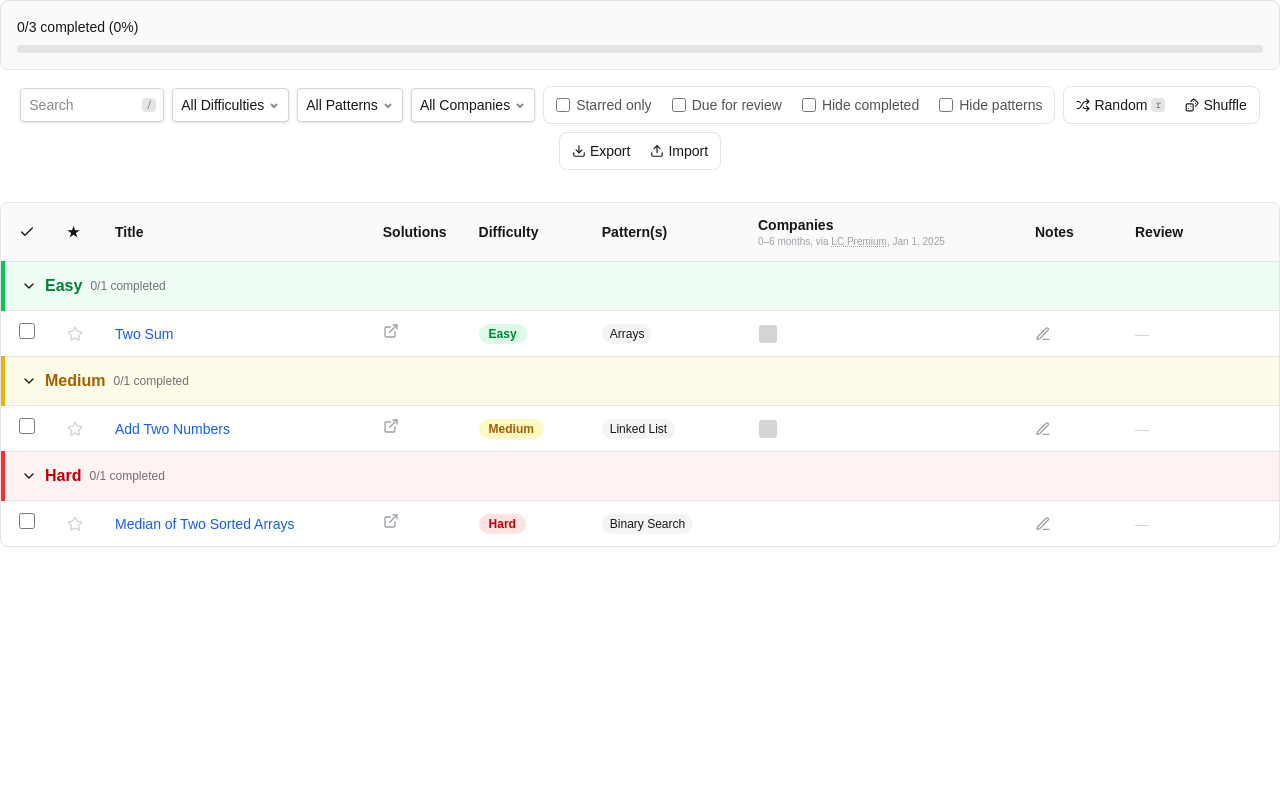
Scenario: QuestionsTable analytics › collapses and expands a difficulty group
Expected: the link "Two Sum" is shown, [115,326,173,342]
Step 1. Click the button with aria-label "Easy group" → (64, 286), box [3,262,1279,311]
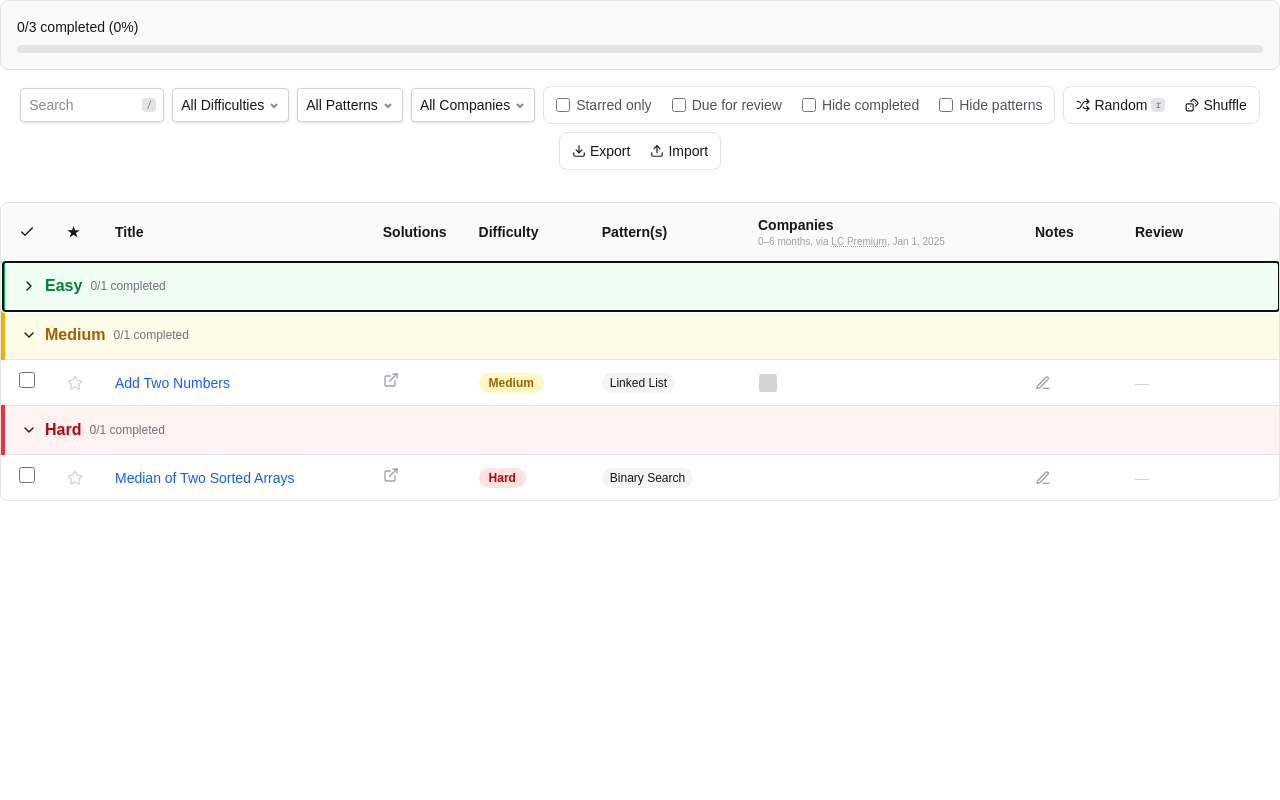
Now the link "Two Sum" is gone
Step 2. Click the button with aria-label "Easy group" → (64, 286), box [3,262,1279,311]
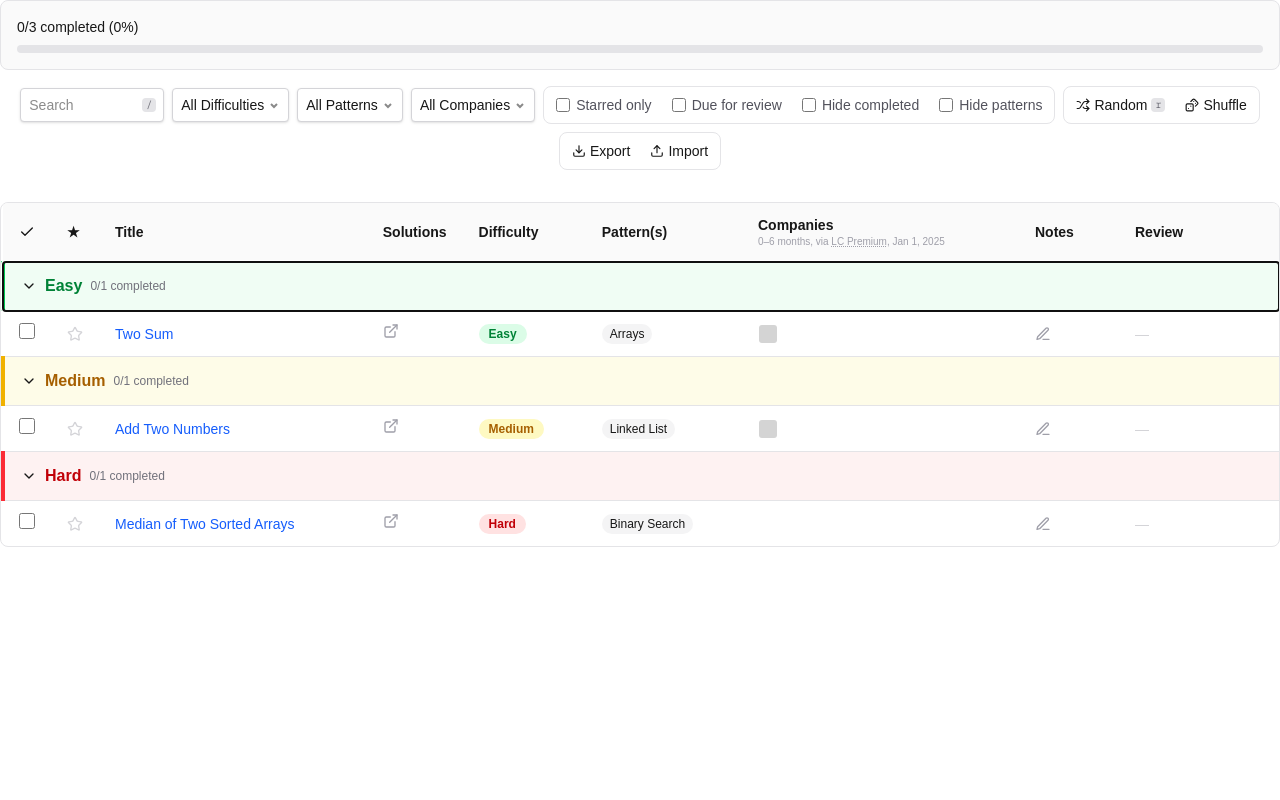
Now the link "Two Sum" is shown, box [115,326,173,342]
